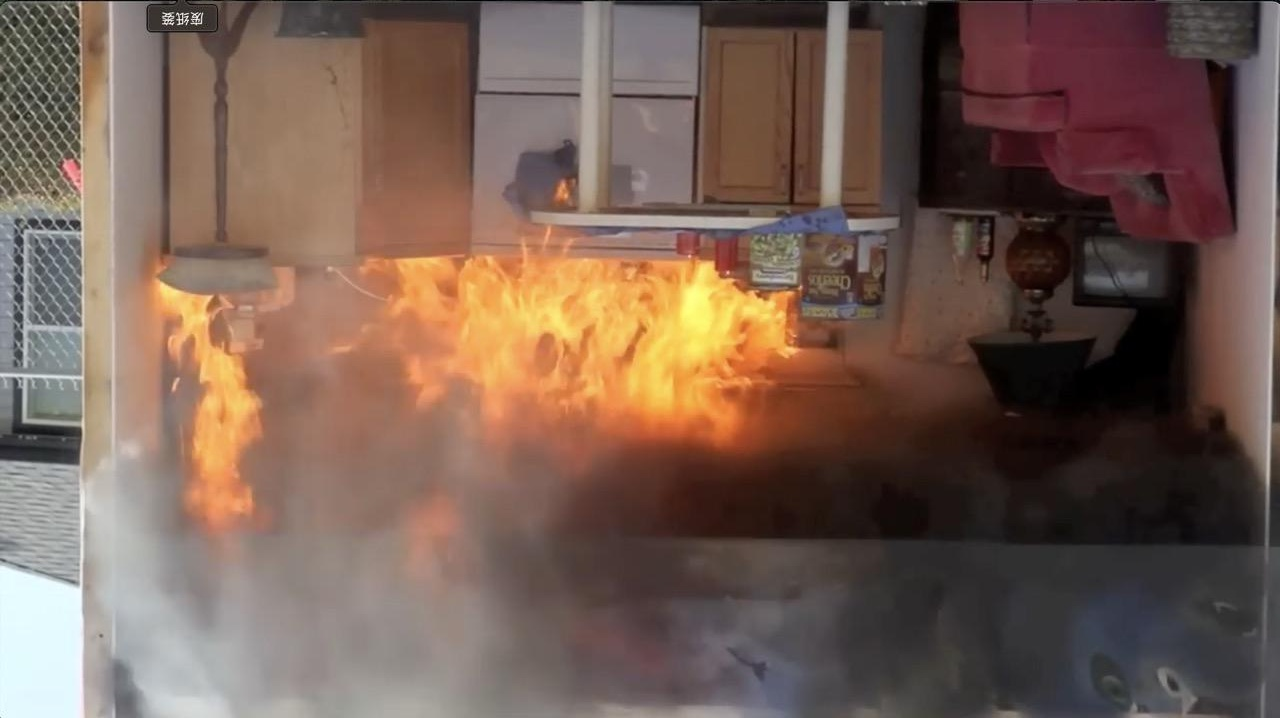fire: (145, 210, 784, 487)
smoke: (188, 510, 1268, 713)
